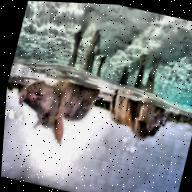boar: (9, 20, 120, 153), (99, 53, 188, 155)
